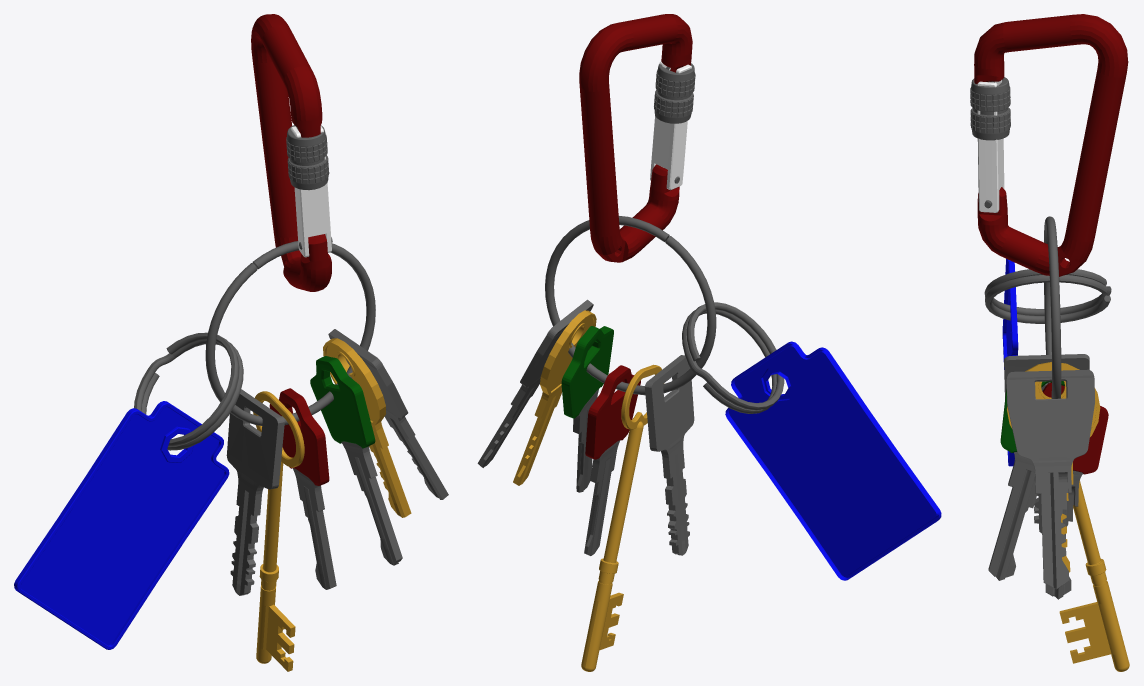
File: keys export.fbx
The picture shows the model from 3 angles, left to right: view 1: azimuth 30°, elevation 25°; view 2: azimuth 150°, elevation 25°; view 3: azimuth 270°, elevation 25°; orthographic projection. The views are drawn at different scales.
Parts seen in each view (by area): view 1: group9_Key_in_GRP_Key_ALL_GRP_KEY100, group9_Key_in_GRP_Key_ALL_GRP_KEY94, group9_Key_in_GRP_Key_ALL_GRP_KEY146, group9_Key_in_GRP_Key_ALL_GRP_KEY138, group9_Key_in_GRP_Key_ALL_GRP_KEY131, group9_Key_in_GRP_Key_ALL_GRP_KEY140, group9_Key_in_GRP_Key_ALL_GRP_KEY150, group9_Key_in_GRP_Key_ALL_GRP_KEY104, group9_Key_in_GRP_Key_ALL_GRP_KEY141, group9_Key_in_GRP_Key_ALL_GRP_KEY152, group9_Key_in_GRP_Key_ALL_GRP_KEY142, group9_Key_in_GRP_Key_ALL_GRP_KEY125 (+2 smaller); view 2: group9_Key_in_GRP_Key_ALL_GRP_KEY100, group9_Key_in_GRP_Key_ALL_GRP_KEY94, group9_Key_in_GRP_Key_ALL_GRP_KEY146, group9_Key_in_GRP_Key_ALL_GRP_KEY138, group9_Key_in_GRP_Key_ALL_GRP_KEY131, group9_Key_in_GRP_Key_ALL_GRP_KEY104, group9_Key_in_GRP_Key_ALL_GRP_KEY150, group9_Key_in_GRP_Key_ALL_GRP_KEY140, group9_Key_in_GRP_Key_ALL_GRP_KEY152, group9_Key_in_GRP_Key_ALL_GRP_KEY141, group9_Key_in_GRP_Key_ALL_GRP_KEY125, group9_Key_in_GRP_Key_ALL_GRP_KEY119 (+2 smaller); view 3: group9_Key_in_GRP_Key_ALL_GRP_KEY94, group9_Key_in_GRP_Key_ALL_GRP_KEY141, group9_Key_in_GRP_Key_ALL_GRP_KEY138, group9_Key_in_GRP_Key_ALL_GRP_KEY104, group9_Key_in_GRP_Key_ALL_GRP_KEY142, group9_Key_in_GRP_Key_ALL_GRP_KEY131, group9_Key_in_GRP_Key_ALL_GRP_KEY125, group9_Key_in_GRP_Key_ALL_GRP_KEY119, group9_Key_in_GRP_Key_ALL_GRP_KEY146, group9_Key_in_GRP_Key_ALL_GRP_KEY152, group9_Key_in_GRP_Key_ALL_GRP_KEY100, group9_Key_in_GRP_Key_ALL_GRP_KEY150 (+2 smaller).
Part boxes in pixels (x1,y1,x2,y2): group9_Key_in_GRP_Key_ALL_GRP_KEY100: [14, 401, 229, 649]; group9_Key_in_GRP_Key_ALL_GRP_KEY94: [251, 14, 331, 291]; group9_Key_in_GRP_Key_ALL_GRP_KEY146: [226, 389, 284, 595]; group9_Key_in_GRP_Key_ALL_GRP_KEY138: [253, 391, 304, 671]; group9_Key_in_GRP_Key_ALL_GRP_KEY131: [205, 241, 375, 425]; group9_Key_in_GRP_Key_ALL_GRP_KEY140: [310, 356, 375, 448]; group9_Key_in_GRP_Key_ALL_GRP_KEY150: [323, 338, 411, 517]; group9_Key_in_GRP_Key_ALL_GRP_KEY104: [134, 332, 243, 450]; group9_Key_in_GRP_Key_ALL_GRP_KEY141: [328, 329, 448, 499]; group9_Key_in_GRP_Key_ALL_GRP_KEY152: [269, 388, 329, 485]; group9_Key_in_GRP_Key_ALL_GRP_KEY142: [341, 441, 402, 565]; group9_Key_in_GRP_Key_ALL_GRP_KEY125: [286, 125, 329, 190]; group9_Key_in_GRP_Key_ALL_GRP_KEY100: [725, 341, 941, 580]; group9_Key_in_GRP_Key_ALL_GRP_KEY94: [579, 14, 692, 262]; group9_Key_in_GRP_Key_ALL_GRP_KEY146: [644, 355, 694, 555]; group9_Key_in_GRP_Key_ALL_GRP_KEY138: [581, 364, 664, 671]; group9_Key_in_GRP_Key_ALL_GRP_KEY131: [545, 216, 716, 395]; group9_Key_in_GRP_Key_ALL_GRP_KEY104: [682, 302, 784, 413]; group9_Key_in_GRP_Key_ALL_GRP_KEY150: [513, 310, 596, 485]; group9_Key_in_GRP_Key_ALL_GRP_KEY140: [561, 326, 613, 418]; group9_Key_in_GRP_Key_ALL_GRP_KEY152: [585, 365, 640, 459]; group9_Key_in_GRP_Key_ALL_GRP_KEY141: [477, 299, 593, 467]; group9_Key_in_GRP_Key_ALL_GRP_KEY125: [654, 63, 695, 123]; group9_Key_in_GRP_Key_ALL_GRP_KEY119: [650, 61, 691, 190]; group9_Key_in_GRP_Key_ALL_GRP_KEY94: [974, 14, 1128, 276]; group9_Key_in_GRP_Key_ALL_GRP_KEY141: [1006, 369, 1094, 589]; group9_Key_in_GRP_Key_ALL_GRP_KEY138: [1059, 480, 1129, 671]; group9_Key_in_GRP_Key_ALL_GRP_KEY104: [984, 269, 1111, 323]; group9_Key_in_GRP_Key_ALL_GRP_KEY142: [988, 452, 1040, 580]; group9_Key_in_GRP_Key_ALL_GRP_KEY131: [1044, 216, 1061, 398]; group9_Key_in_GRP_Key_ALL_GRP_KEY125: [970, 77, 1010, 140]; group9_Key_in_GRP_Key_ALL_GRP_KEY119: [977, 80, 1004, 212]; group9_Key_in_GRP_Key_ALL_GRP_KEY146: [1004, 354, 1089, 533]; group9_Key_in_GRP_Key_ALL_GRP_KEY152: [1042, 382, 1108, 474]; group9_Key_in_GRP_Key_ALL_GRP_KEY100: [1002, 258, 1018, 466]; group9_Key_in_GRP_Key_ALL_GRP_KEY150: [1006, 362, 1100, 572].
Size of the model in its own units: 199 by 276 by 61.3.
